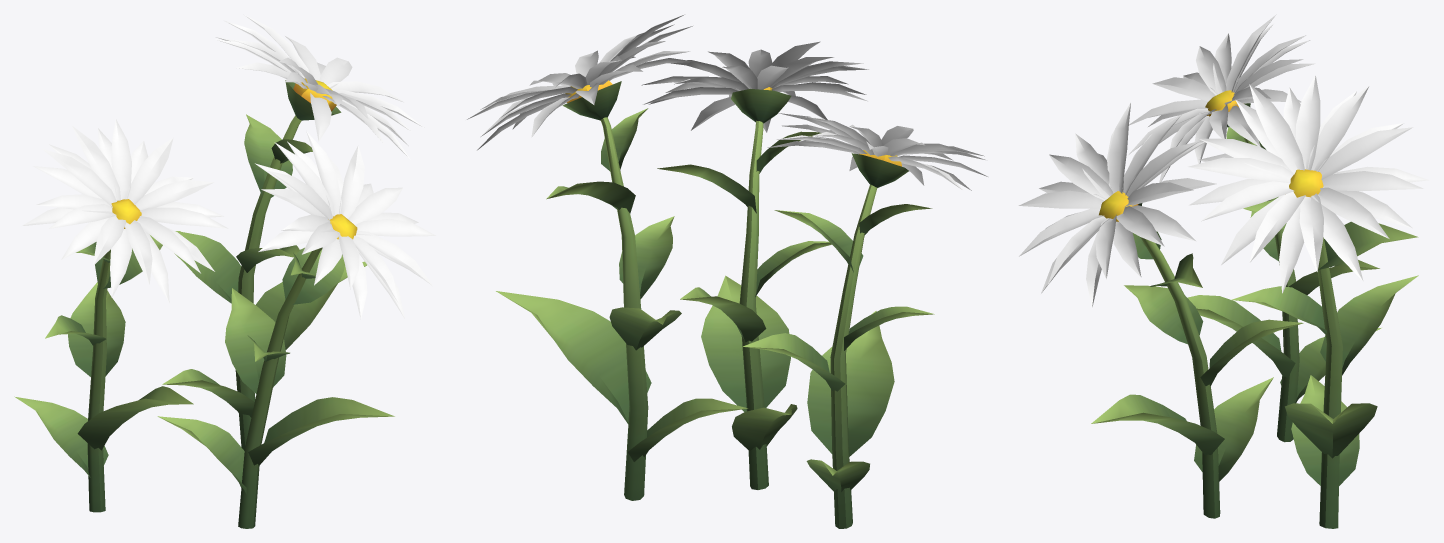
Rendered from WhiteCosmos.gltf.
3 views of the same model, side by side, from view 1: azimuth 30°, elevation 25°; view 2: azimuth 150°, elevation 25°; view 3: azimuth 270°, elevation 25° (orthographic). The views are drawn at different scales.
Parts seen in each view (by area): view 1: default22_Material_0; view 2: default22_Material_0; view 3: default22_Material_0.
Part boxes in pixels (x1,y1,x2,y2): default22_Material_0: (14, 14, 435, 528); default22_Material_0: (467, 14, 987, 528); default22_Material_0: (1018, 14, 1428, 528).
Size of the model in its own units: 1.62 by 1.64 by 1.33.
1 material, 1 textured.
